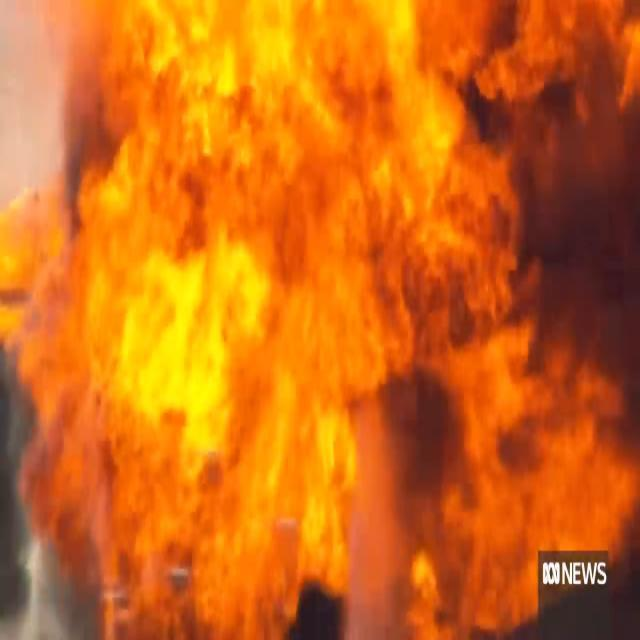fire: (362, 5, 640, 548), (20, 228, 308, 622), (66, 0, 362, 276), (306, 278, 522, 588)
